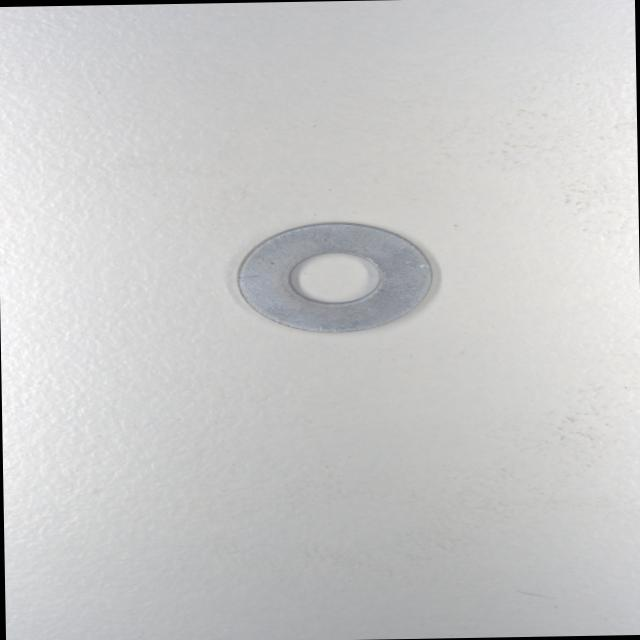washer: (232, 217, 438, 335)
